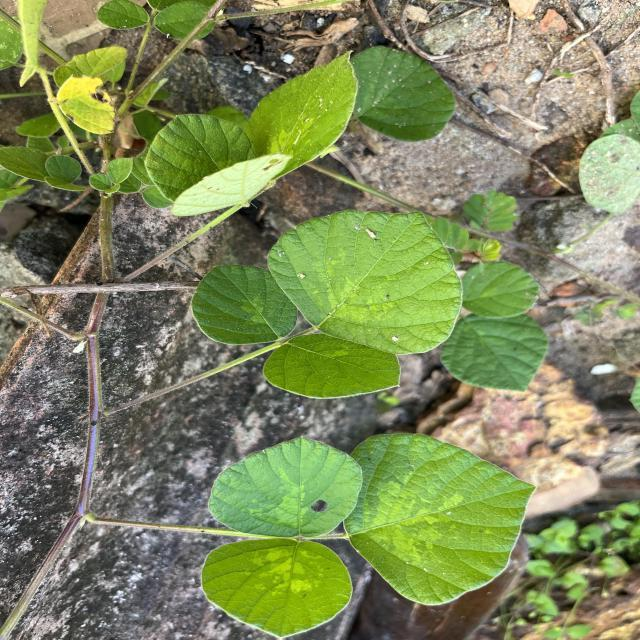Pseudarthria viscida: (198, 430, 538, 640), (188, 208, 465, 400)
